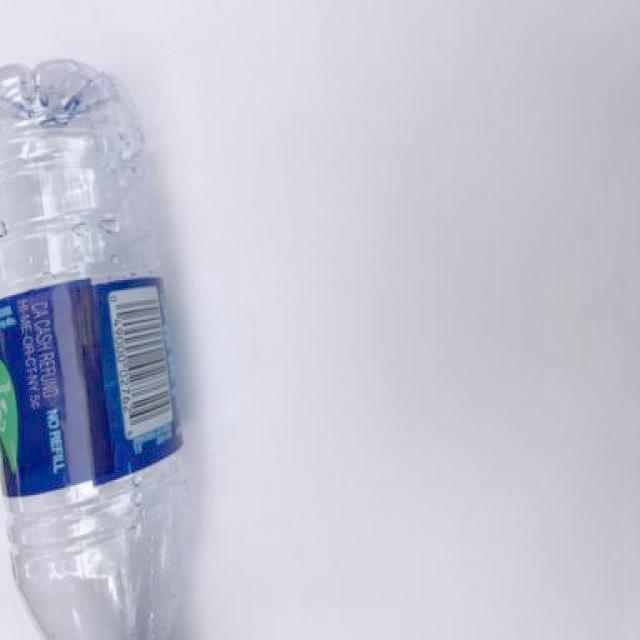bottle: (0, 56, 194, 640)
